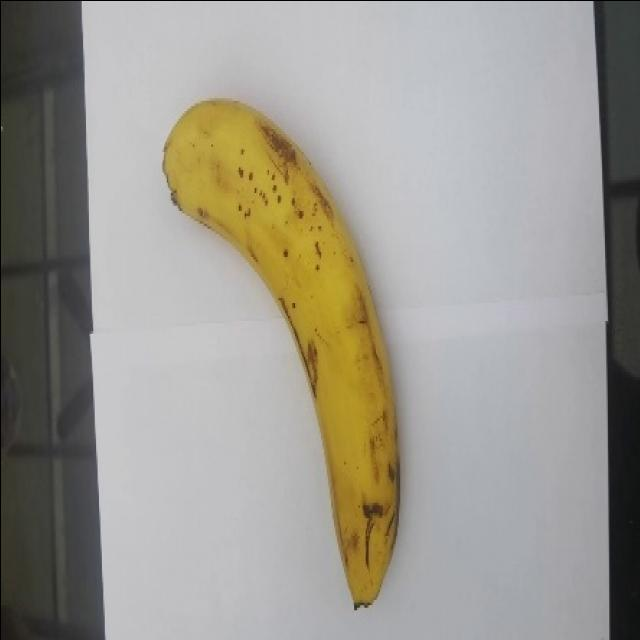Banana: (161, 97, 401, 609)
